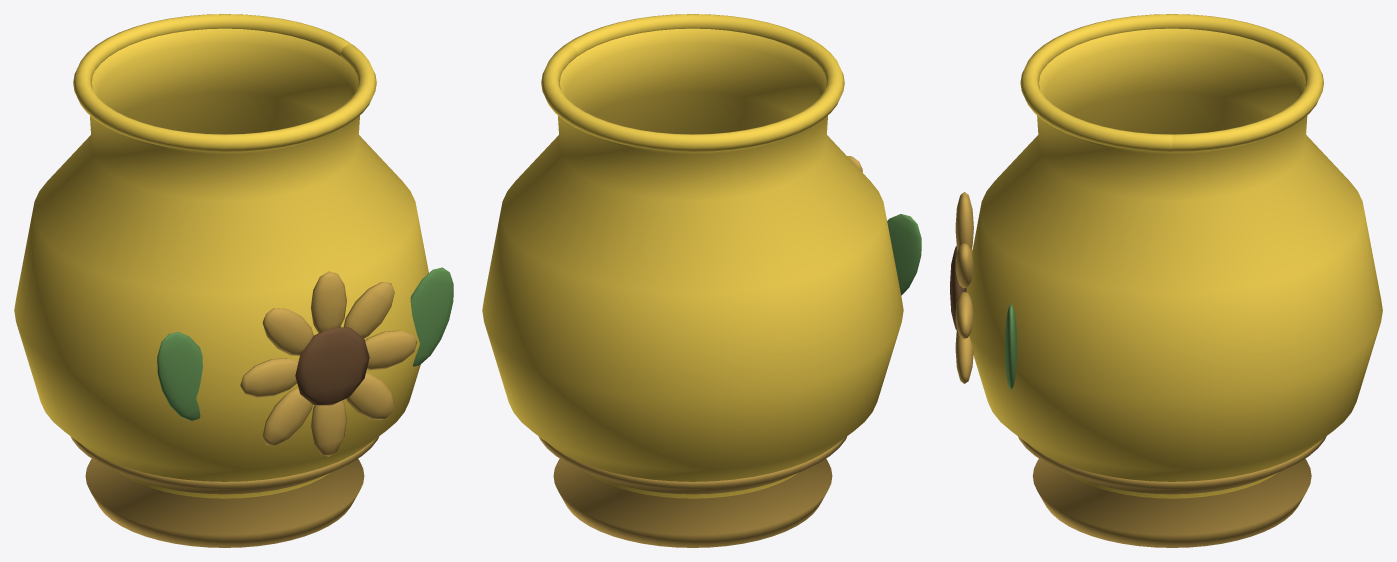
Rendered from vase_sunflower.glb.
3 renders of one model, left to right at view 1: azimuth 30°, elevation 25°; view 2: azimuth 150°, elevation 25°; view 3: azimuth 270°, elevation 25°, orthographic.
Parts seen in each view (by area): view 1: Yellow_round_body, Ochre_foot_band, Yellow_rolled_rim, Sunflower_medallion_center, Sunflower_leaf, Sunflower_leaf.001, Sunflower_medallion_petal.006, Sunflower_medallion_petal, Sunflower_medallion_petal.007, Sunflower_medallion_petal.001, Sunflower_medallion_petal.005, Sunflower_medallion_petal.004 (+2 smaller); view 2: Yellow_round_body, Ochre_foot_band, Yellow_rolled_rim, Sunflower_leaf; view 3: Yellow_round_body, Ochre_foot_band, Yellow_rolled_rim, Sunflower_leaf.001, Sunflower_medallion_petal, Sunflower_medallion_petal.003, Sunflower_medallion_petal.002, Sunflower_medallion_petal.001, Sunflower_medallion_center.
Part boxes in pixels (x1,y1,x2,y2): Yellow_round_body: (14,28,428,498); Ochre_foot_band: (70,436,378,547); Yellow_rolled_rim: (73,14,376,151); Sunflower_medallion_center: (295,327,369,405); Sunflower_leaf: (157,332,202,420); Sunflower_leaf.001: (410,267,453,366); Sunflower_medallion_petal.006: (240,358,298,397); Sunflower_medallion_petal: (310,271,346,333); Sunflower_medallion_petal.007: (262,308,313,355); Sunflower_medallion_petal.001: (343,282,394,338); Sunflower_medallion_petal.005: (262,387,312,445); Sunflower_medallion_petal.004: (310,400,346,456); Yellow_round_body: (482,28,903,498); Ochre_foot_band: (538,436,846,547); Yellow_rolled_rim: (541,14,844,151); Sunflower_leaf: (887,214,921,295); Yellow_round_body: (966,28,1382,498); Ochre_foot_band: (1018,436,1326,547); Yellow_rolled_rim: (1020,14,1323,151); Sunflower_leaf.001: (1005,304,1017,389); Sunflower_medallion_petal: (955,195,973,250); Sunflower_medallion_petal.003: (955,329,973,383); Sunflower_medallion_petal.002: (955,292,973,338); Sunflower_medallion_petal.001: (955,243,973,288); Sunflower_medallion_center: (950,246,966,329).
Size of the model in its own units: 0.136 by 0.151 by 0.1397.
